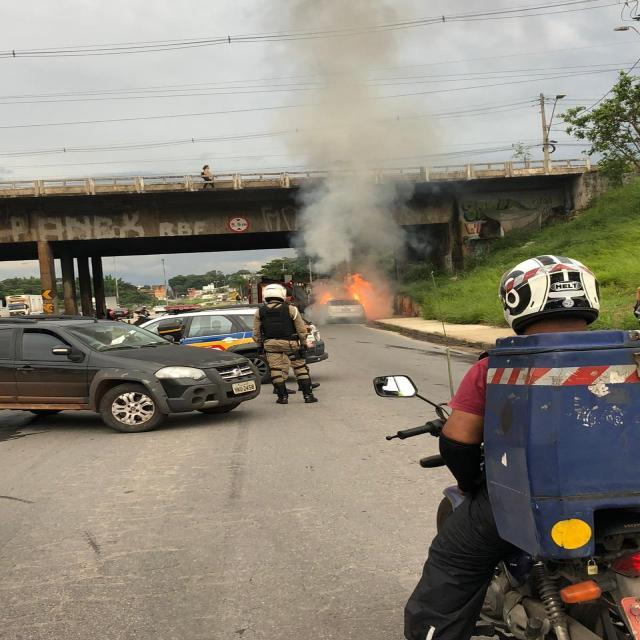Fire: (314, 276, 389, 320)
